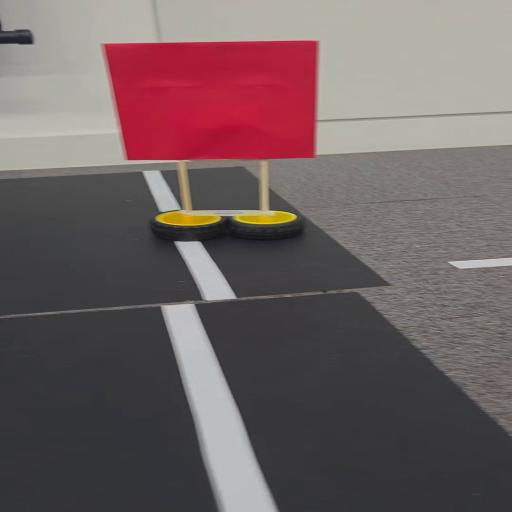Sign_A: (95, 32, 341, 248)
